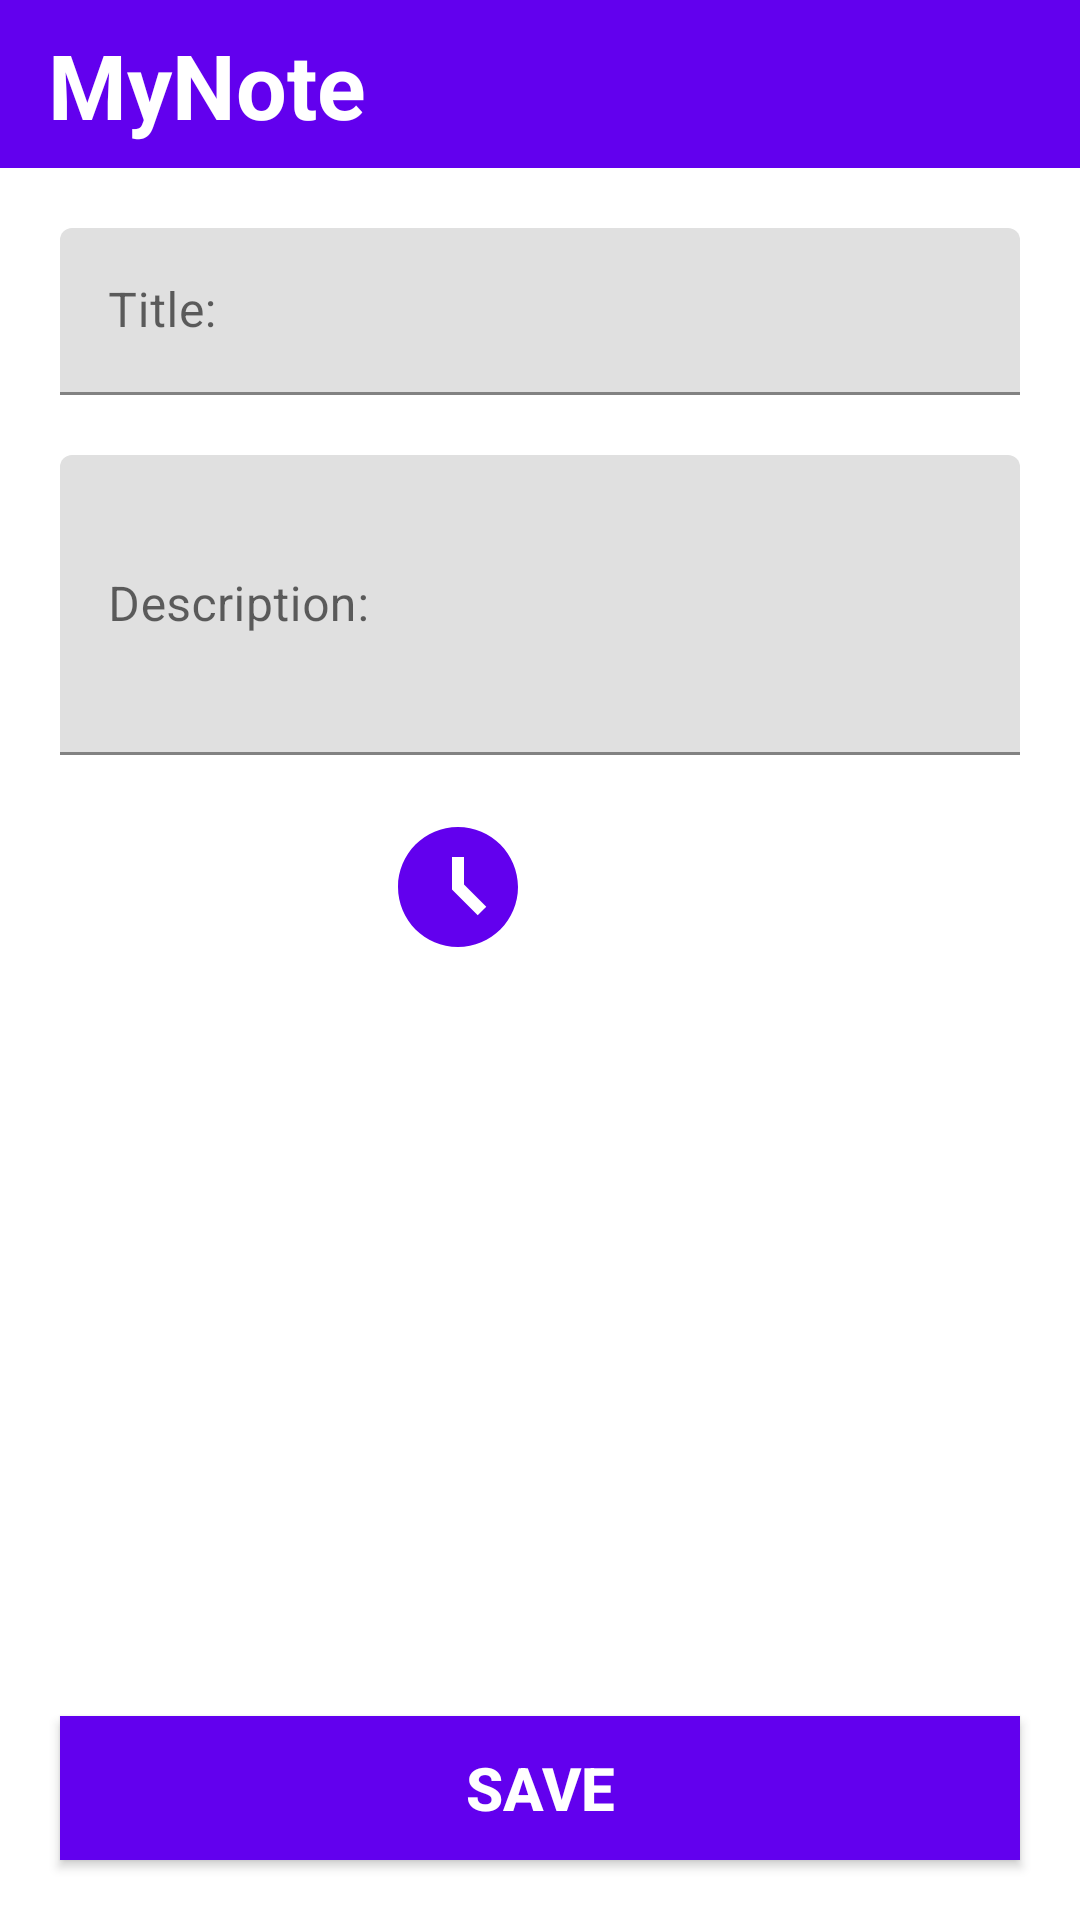

Where to tap for icons on this 1080px×1920px app screen, as [x,y]:
access time: [458,887]
